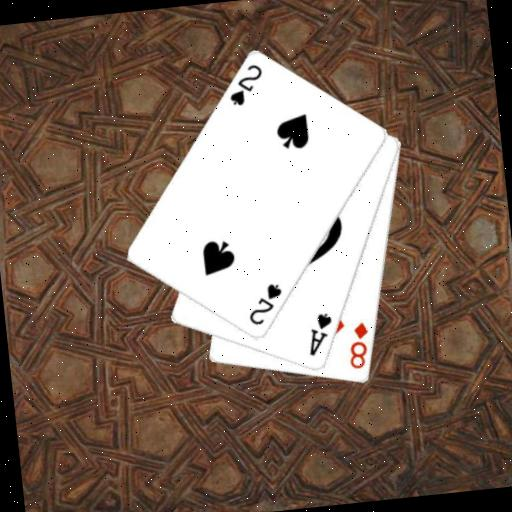2S: (243, 280, 287, 329), (223, 61, 267, 109)
8D: (342, 319, 374, 372)
AS: (302, 310, 337, 359)
